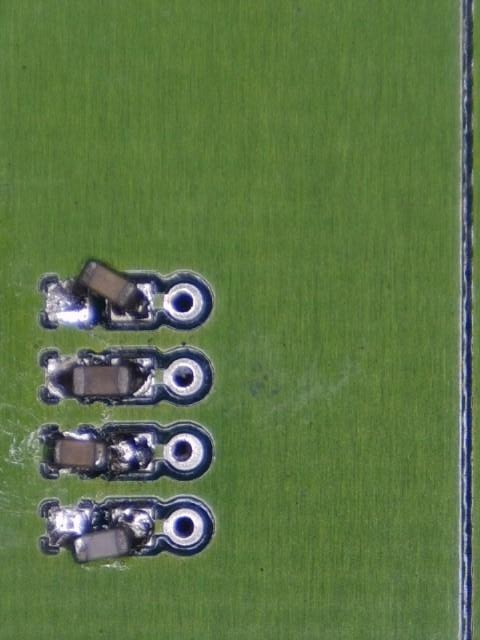pcb_defect: (45, 258, 153, 325), (48, 505, 154, 564), (48, 429, 156, 474), (48, 430, 156, 475)
